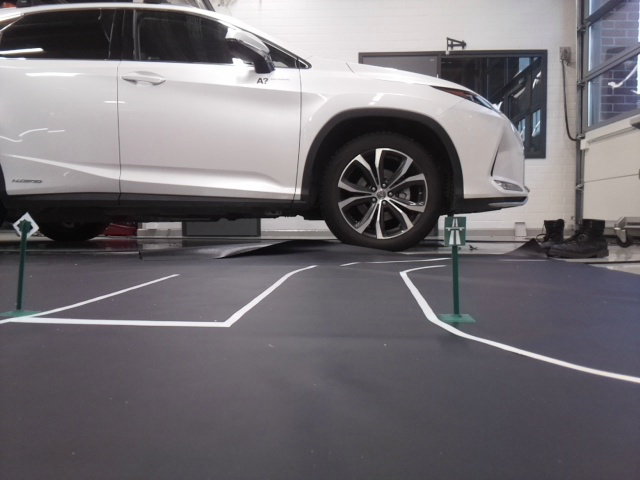HighwayEntrance: (443, 216, 464, 246)
